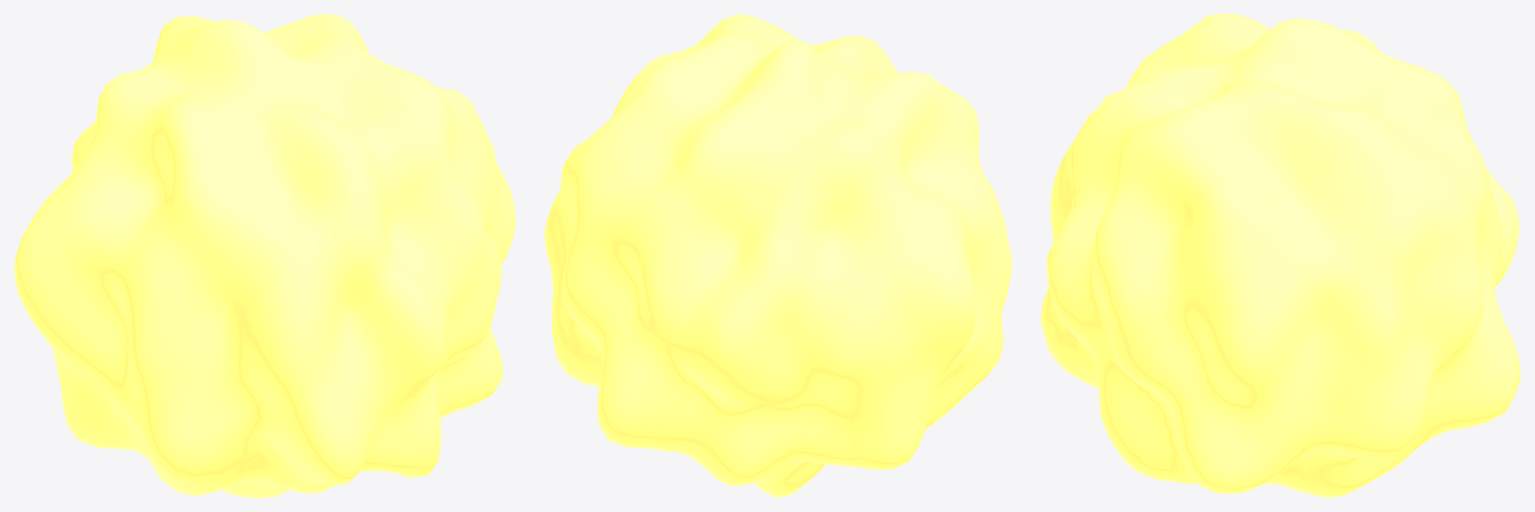
The model's file is car_explosion_core_a_v01.glb.
3 renders of one model, left to right at view 1: azimuth 30°, elevation 25°; view 2: azimuth 150°, elevation 25°; view 3: azimuth 270°, elevation 25°, orthographic. The views are drawn at different scales.
Parts seen in each view (by area): view 1: Explosion_Core; view 2: Explosion_Core; view 3: Explosion_Core.
Boxes of the visible parts, x1,y1,x2,y2 form: Explosion_Core: (14,14,515,497); Explosion_Core: (544,14,1011,497); Explosion_Core: (1040,14,1520,497).
Bounding box in the file's own units: 5.23 × 5.21 × 4.97.
